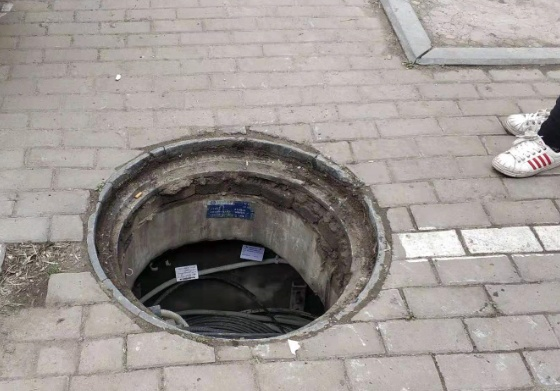well: (85, 133, 391, 344)
